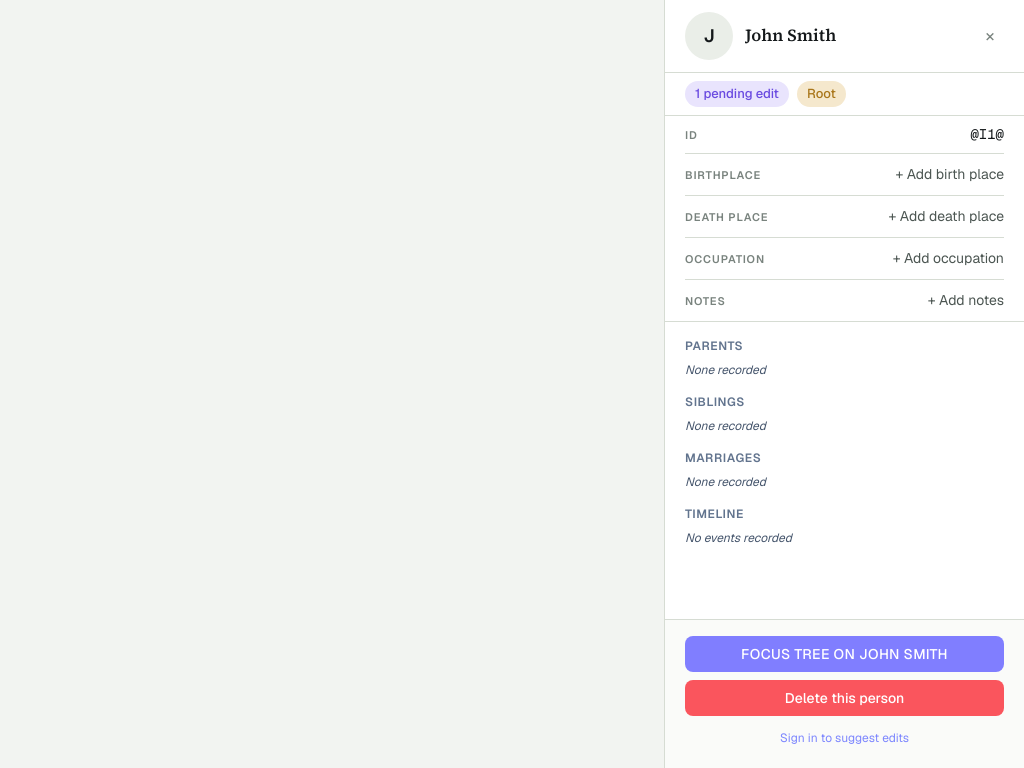
PersonDrawer › Delete confirmation — in-app modal replaces window.confirm › shows conflictingChange.detail from a 409 revert response as the action error
Click the button with test id "person-drawer-delete".
click(844, 698)  # box [685,680,1004,716]
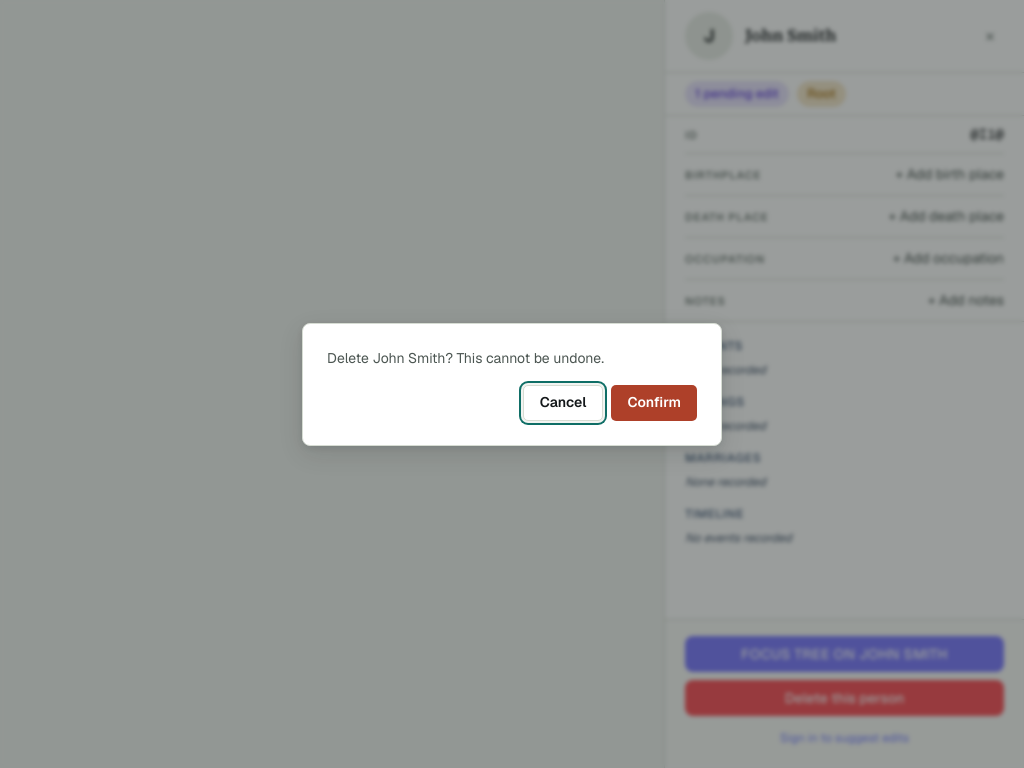
Click the button with test id "confirm-dialog-confirm".
click(654, 402)  # box [612,384,697,420]
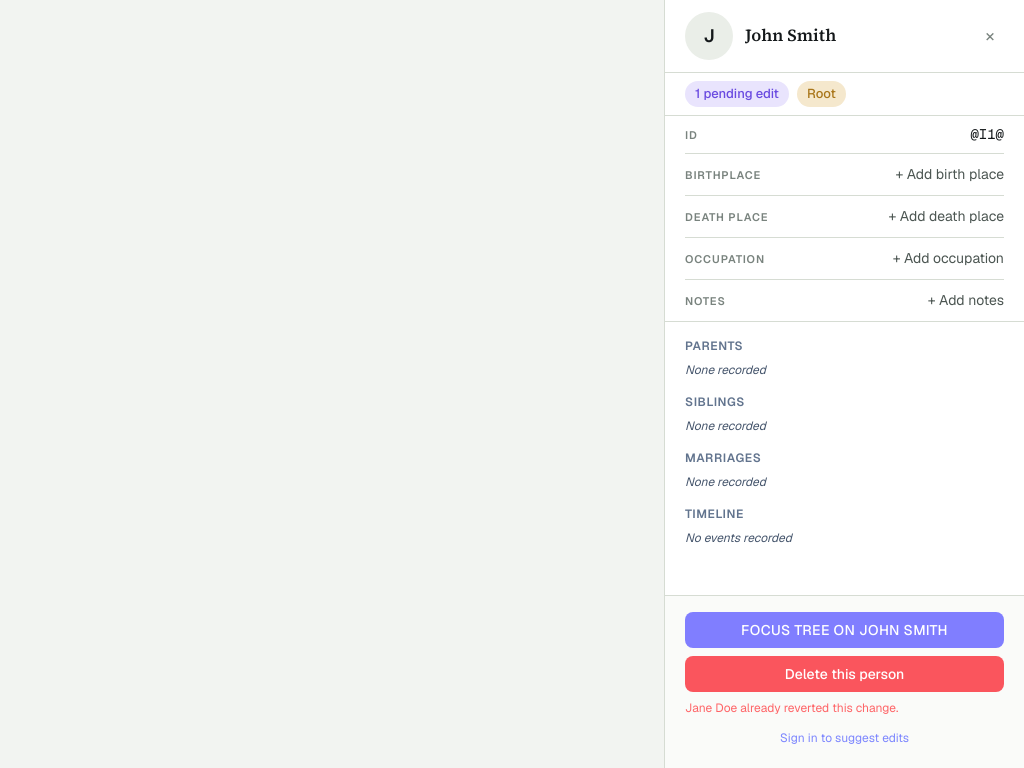
Now the text with test id "person-drawer-action-error" reads "Jane Doe already reverted this change.", box [685,700,898,716]
